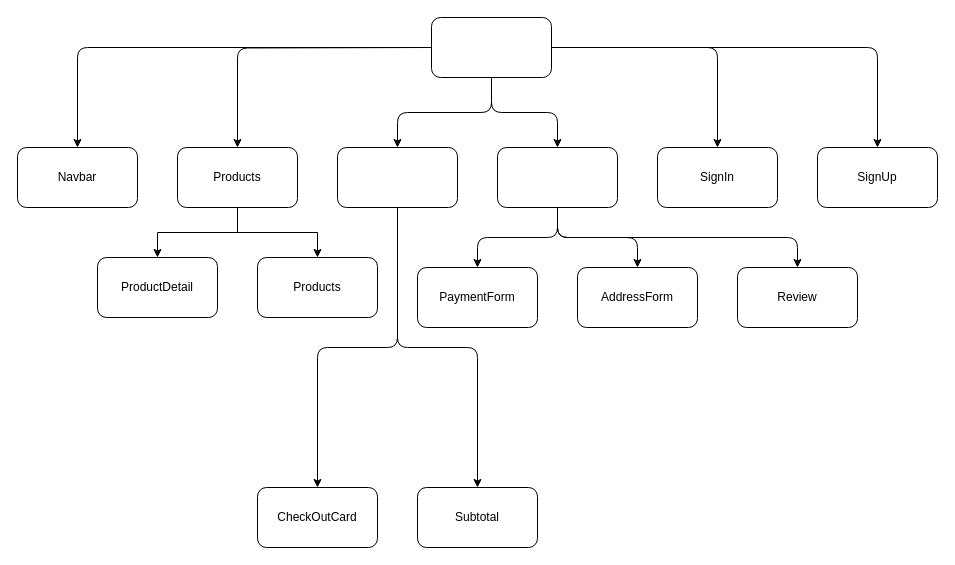
Some shapes in this 955 by 565 pixel diagram are drawn without their labels. The box of each missing label's shape, as (x1, y1, x2, y2) in pixels:
App.js: (430, 16, 552, 78)
CheckOut: (496, 146, 618, 208)
CheckOutPage: (336, 146, 458, 208)
